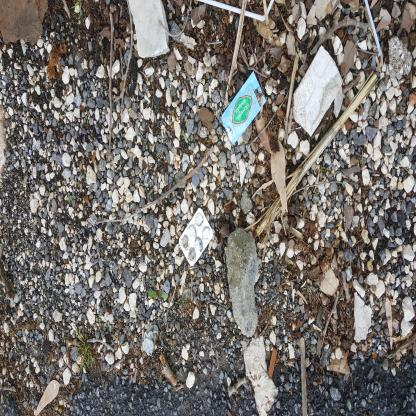trash: (78, 312, 128, 385), (149, 387, 206, 416)
